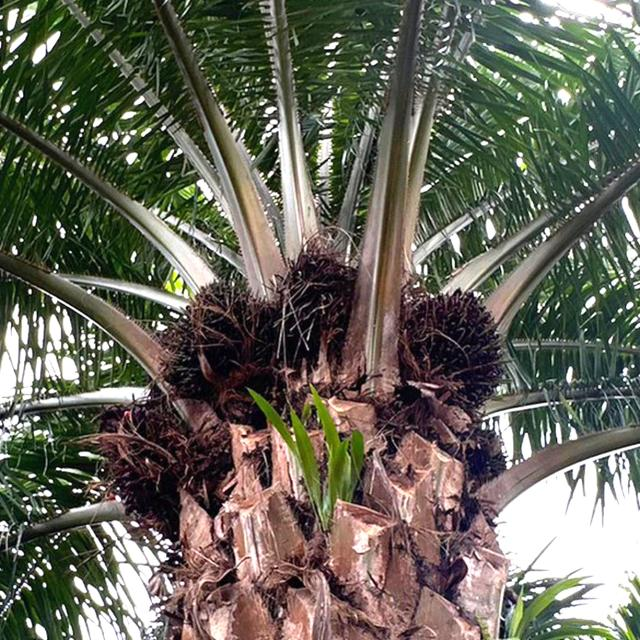unripe: (404, 281, 516, 406), (103, 406, 200, 535), (159, 311, 247, 415), (184, 280, 275, 361)
